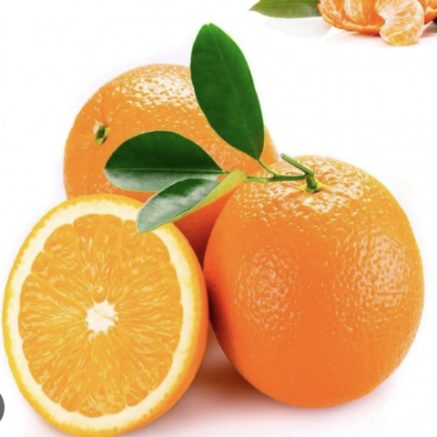orange: (188, 128, 434, 420), (56, 58, 302, 295)
